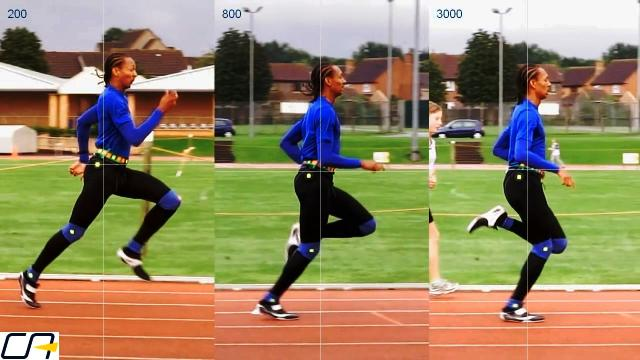berlari: (15, 46, 188, 312), (257, 57, 385, 319), (467, 47, 579, 333)
